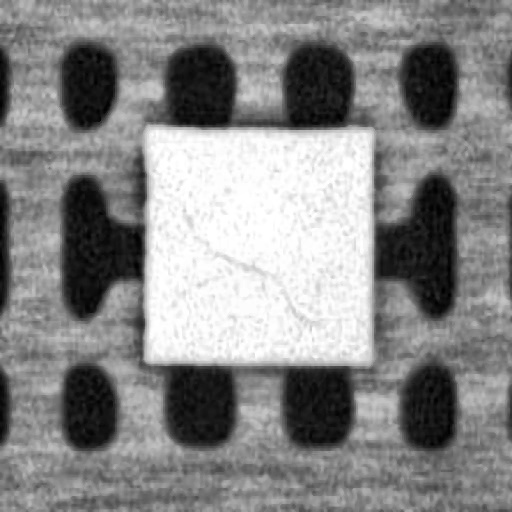DIE_CRACK: (188, 228, 320, 326)
